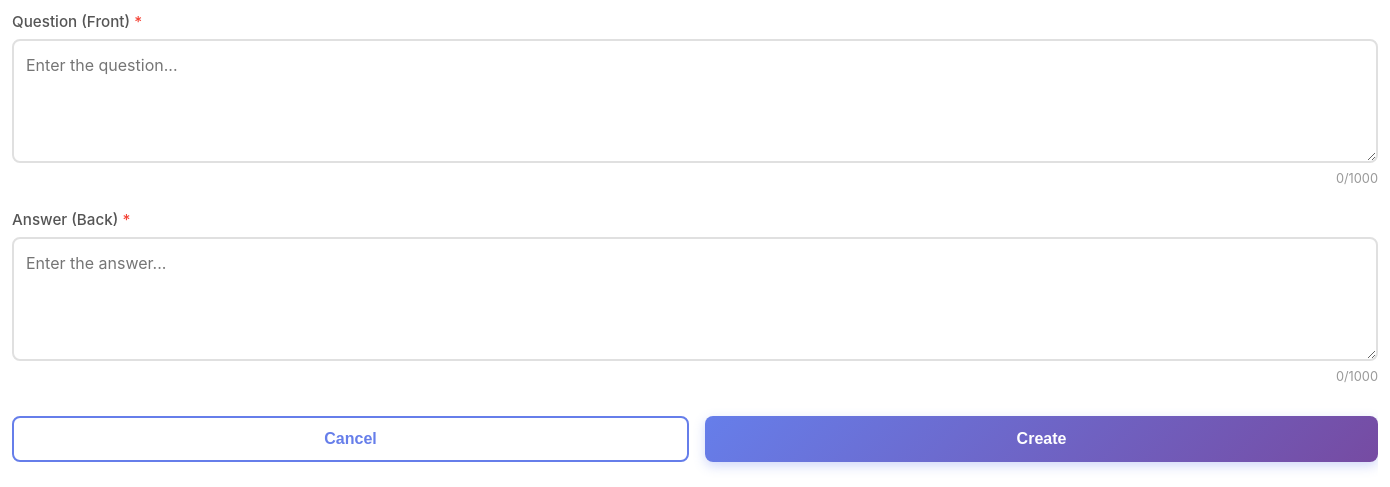
Scenario: FlashcardForm › Create Mode › shows character count
Type "Test" into the text box with test id "front-input" at x=695, y=101, box [12,39,1378,163]
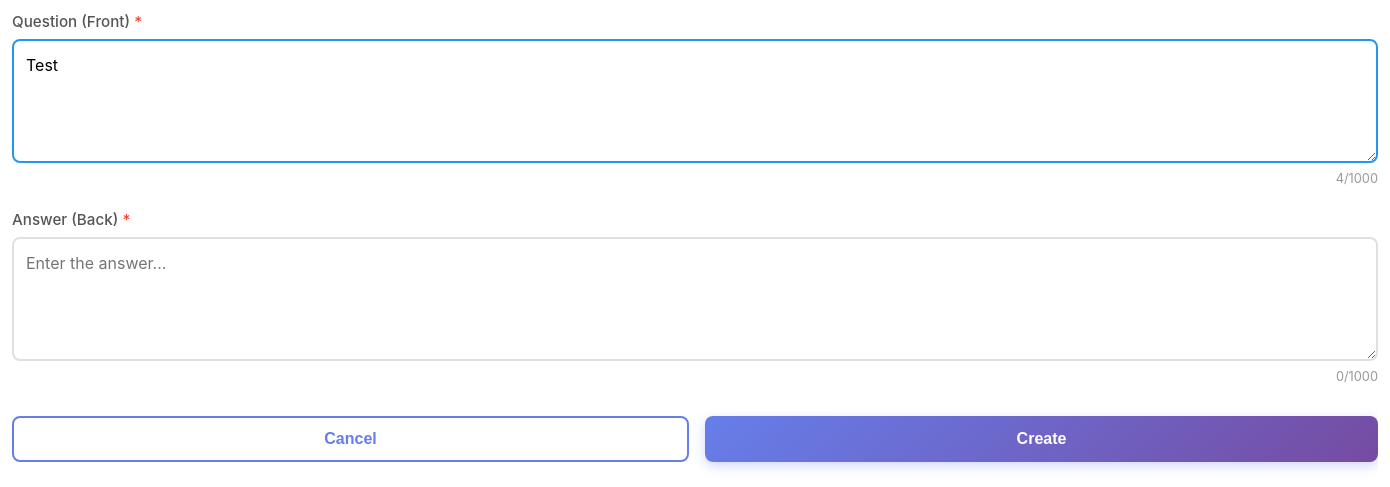
Result: the text "4/1000" is shown at [1336,171,1378,186]
